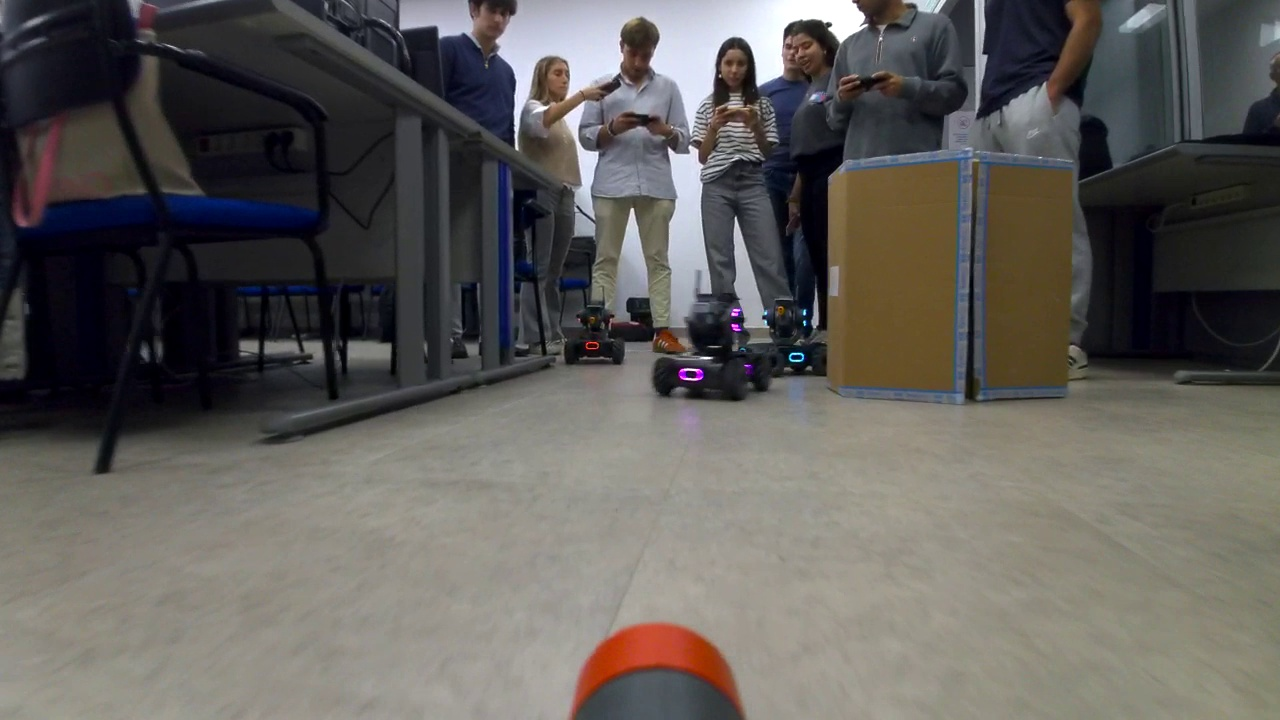robot: (653, 293, 761, 398), (764, 297, 825, 372), (563, 300, 624, 366)
